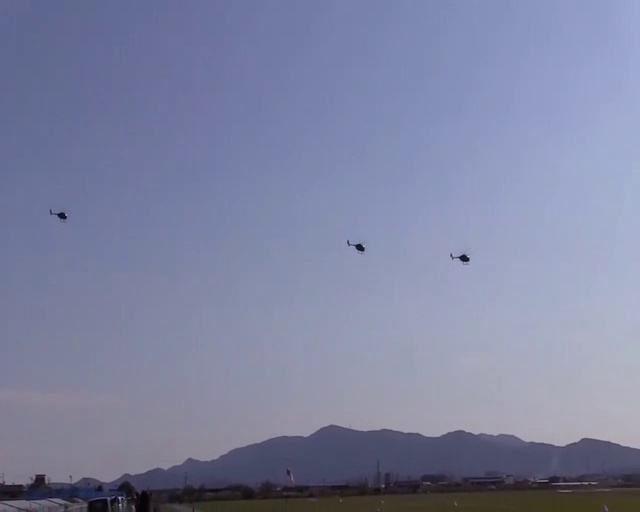HELICOPTER: (347, 239, 365, 253)
